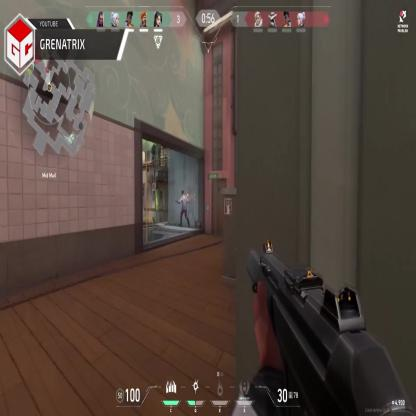enemy: (176, 187, 190, 228)
enemy_head: (181, 190, 184, 197)
